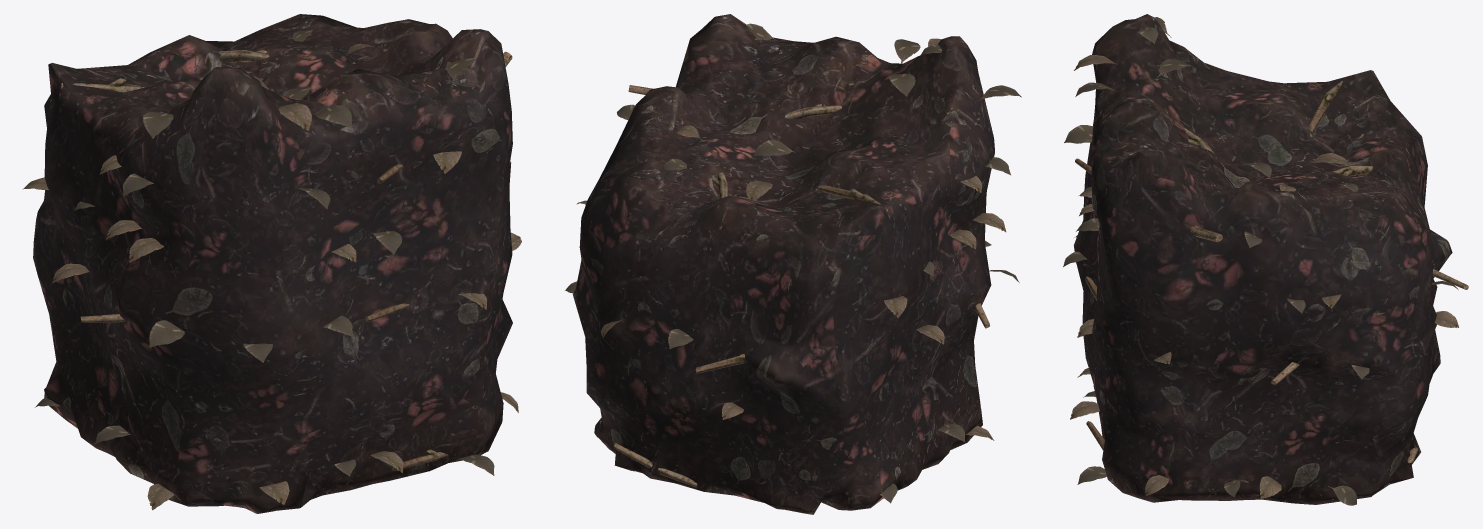
3 views of the same model, side by side, from view 1: azimuth 30°, elevation 25°; view 2: azimuth 150°, elevation 25°; view 3: azimuth 270°, elevation 25° (orthographic). The views are drawn at different scales.
Visible parts, largest first — view 1: SM_Compost_Regular_01v3_LOD0; view 2: SM_Compost_Regular_01v3_LOD0; view 3: SM_Compost_Regular_01v3_LOD0.
Part boxes in pixels (x1,y1,x2,y2): SM_Compost_Regular_01v3_LOD0: [22, 14, 521, 513]; SM_Compost_Regular_01v3_LOD0: [565, 14, 1021, 514]; SM_Compost_Regular_01v3_LOD0: [1063, 14, 1468, 505].
Size of the model in its own units: 1.2 by 1.18 by 1.16.
Materials: 1 (1 with a texture image).
